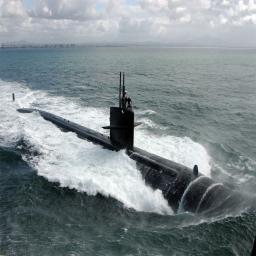submarine: (10, 70, 240, 228)
